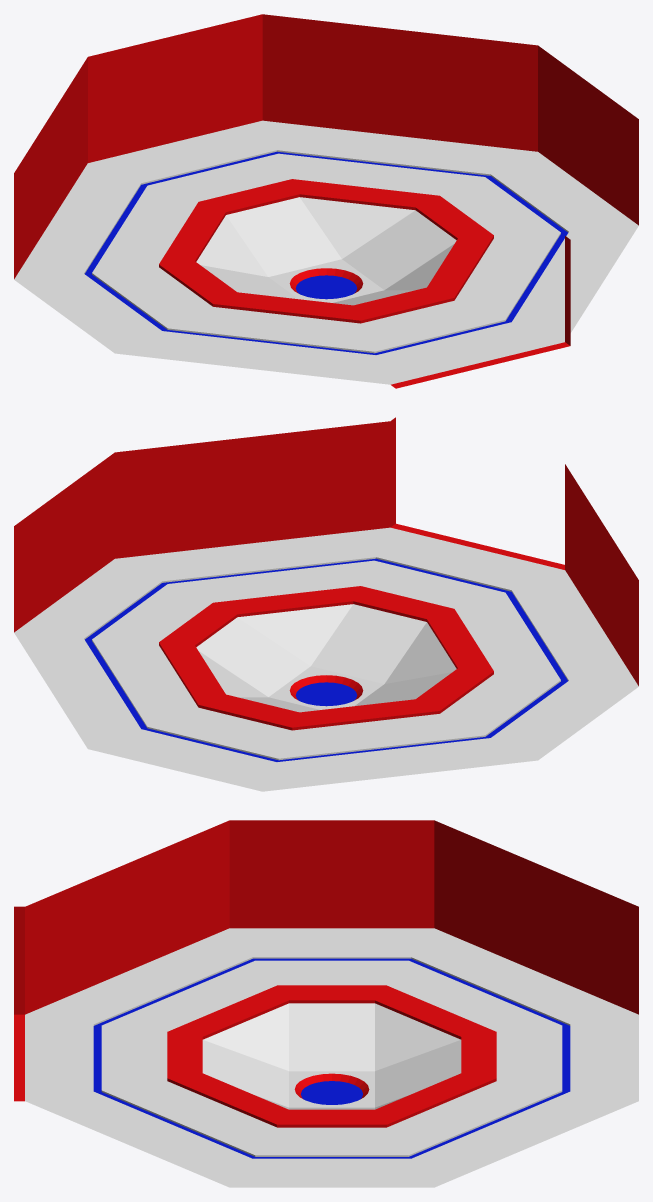
Rendered from room.gltf.
3 renders of one model, top to bottom at view 1: azimuth 30°, elevation 25°; view 2: azimuth 150°, elevation 25°; view 3: azimuth 270°, elevation 25°, orthographic.
Parts seen in each view (by area): view 1: Model; view 2: Model; view 3: Model.
Part boxes in pixels (left/top/right/bottom): Model: left=14, top=14, right=638, bottom=388; Model: left=14, top=417, right=638, bottom=791; Model: left=14, top=820, right=638, bottom=1187.
Size of what is drawn, in the model's own units: 29.83 by 7.73 by 30.37.
